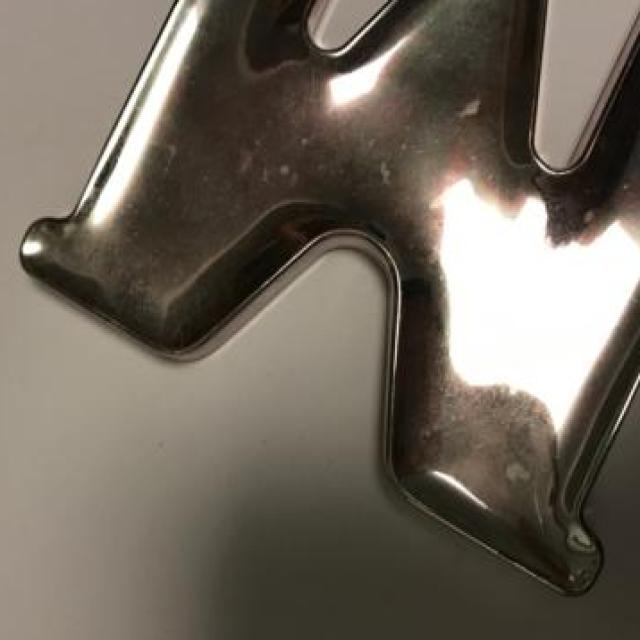organic: (21, 13, 604, 536)
